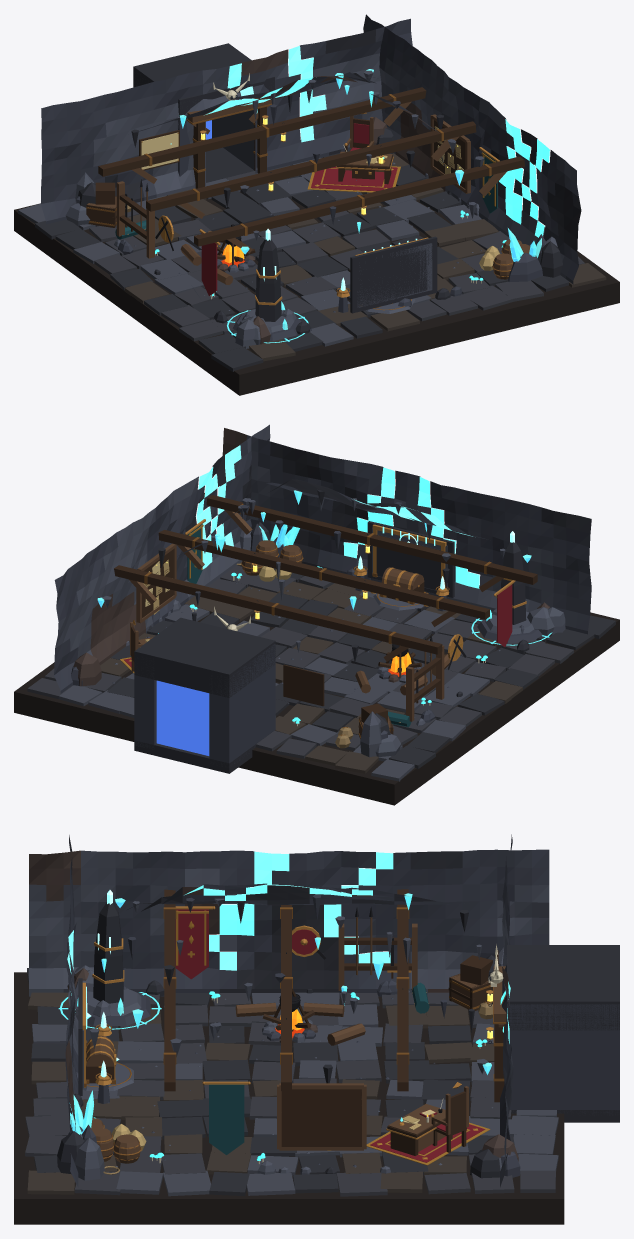
Rendered from Virelune_DelversHollow.glb.
The picture shows the model from 3 angles, top to bottom: view 1: azimuth 30°, elevation 25°; view 2: azimuth 150°, elevation 25°; view 3: azimuth 270°, elevation 25°; orthographic projection. The views are drawn at different scales.
Parts seen in each view (by area): view 1: Floor_Slate, Rock_Wall_S, Rock_Wall_E, Floor_Dirt, Door_Passage, Stash_Frame, Beam_2, Beam_3, Beam_1, Waystone, Stalactites, Cave_Mouth (+16 smaller); view 2: Floor_Slate, Rock_Wall_N, Rock_Wall_E, Door_Passage, Floor_Dirt, Beam_1, Beam_2, Beam_3, Door_Glow, Stash_Frame, Waystone, Stalactites (+14 smaller); view 3: Floor_Slate, Rock_Wall_W, Floor_Dirt, Door_Passage, Quest_Board, Waystone, Cavern_Ceiling, Stalactites, Banner_E, Rock_Wall_N, Beam_1, Beam_3 (+17 smaller).
Boxes of the visible parts, x1,y1,x2,y2 form: Floor_Slate: (18, 140, 606, 371); Rock_Wall_S: (41, 18, 412, 224); Rock_Wall_E: (363, 14, 581, 284); Floor_Dirt: (14, 191, 619, 395); Door_Passage: (133, 43, 274, 182); Stash_Frame: (350, 236, 437, 313); Beam_2: (146, 121, 476, 218); Beam_3: (194, 153, 533, 253); Beam_1: (98, 87, 426, 183); Waystone: (227, 228, 308, 343); Stalactites: (131, 69, 484, 254); Cave_Mouth: (187, 93, 271, 188); Floor_Slate: (27, 561, 615, 781); Rock_Wall_N: (220, 428, 591, 634); Rock_Wall_E: (54, 424, 270, 693); Door_Passage: (134, 617, 275, 773); Floor_Dirt: (14, 555, 619, 805); Beam_1: (114, 565, 442, 661); Beam_2: (158, 530, 489, 626); Beam_3: (198, 493, 537, 591); Door_Glow: (156, 680, 209, 755); Stash_Frame: (367, 521, 454, 597); Waystone: (471, 531, 552, 645); Stalactites: (97, 489, 531, 661); Floor_Slate: (25, 968, 558, 1196); Rock_Wall_W: (29, 849, 549, 996); Floor_Dirt: (14, 972, 564, 1224); Door_Passage: (507, 945, 619, 1122); Quest_Board: (277, 1083, 366, 1150); Waystone: (58, 890, 161, 1030); Cavern_Ceiling: (127, 883, 469, 911); Stalactites: (89, 893, 491, 1083); Banner_E: (202, 1081, 250, 1154); Rock_Wall_N: (65, 835, 78, 1187); Beam_1: (396, 889, 409, 1091); Beam_3: (163, 889, 176, 1091).
Bounding box in the file's own units: 7.67 × 3.18 × 8.59.
